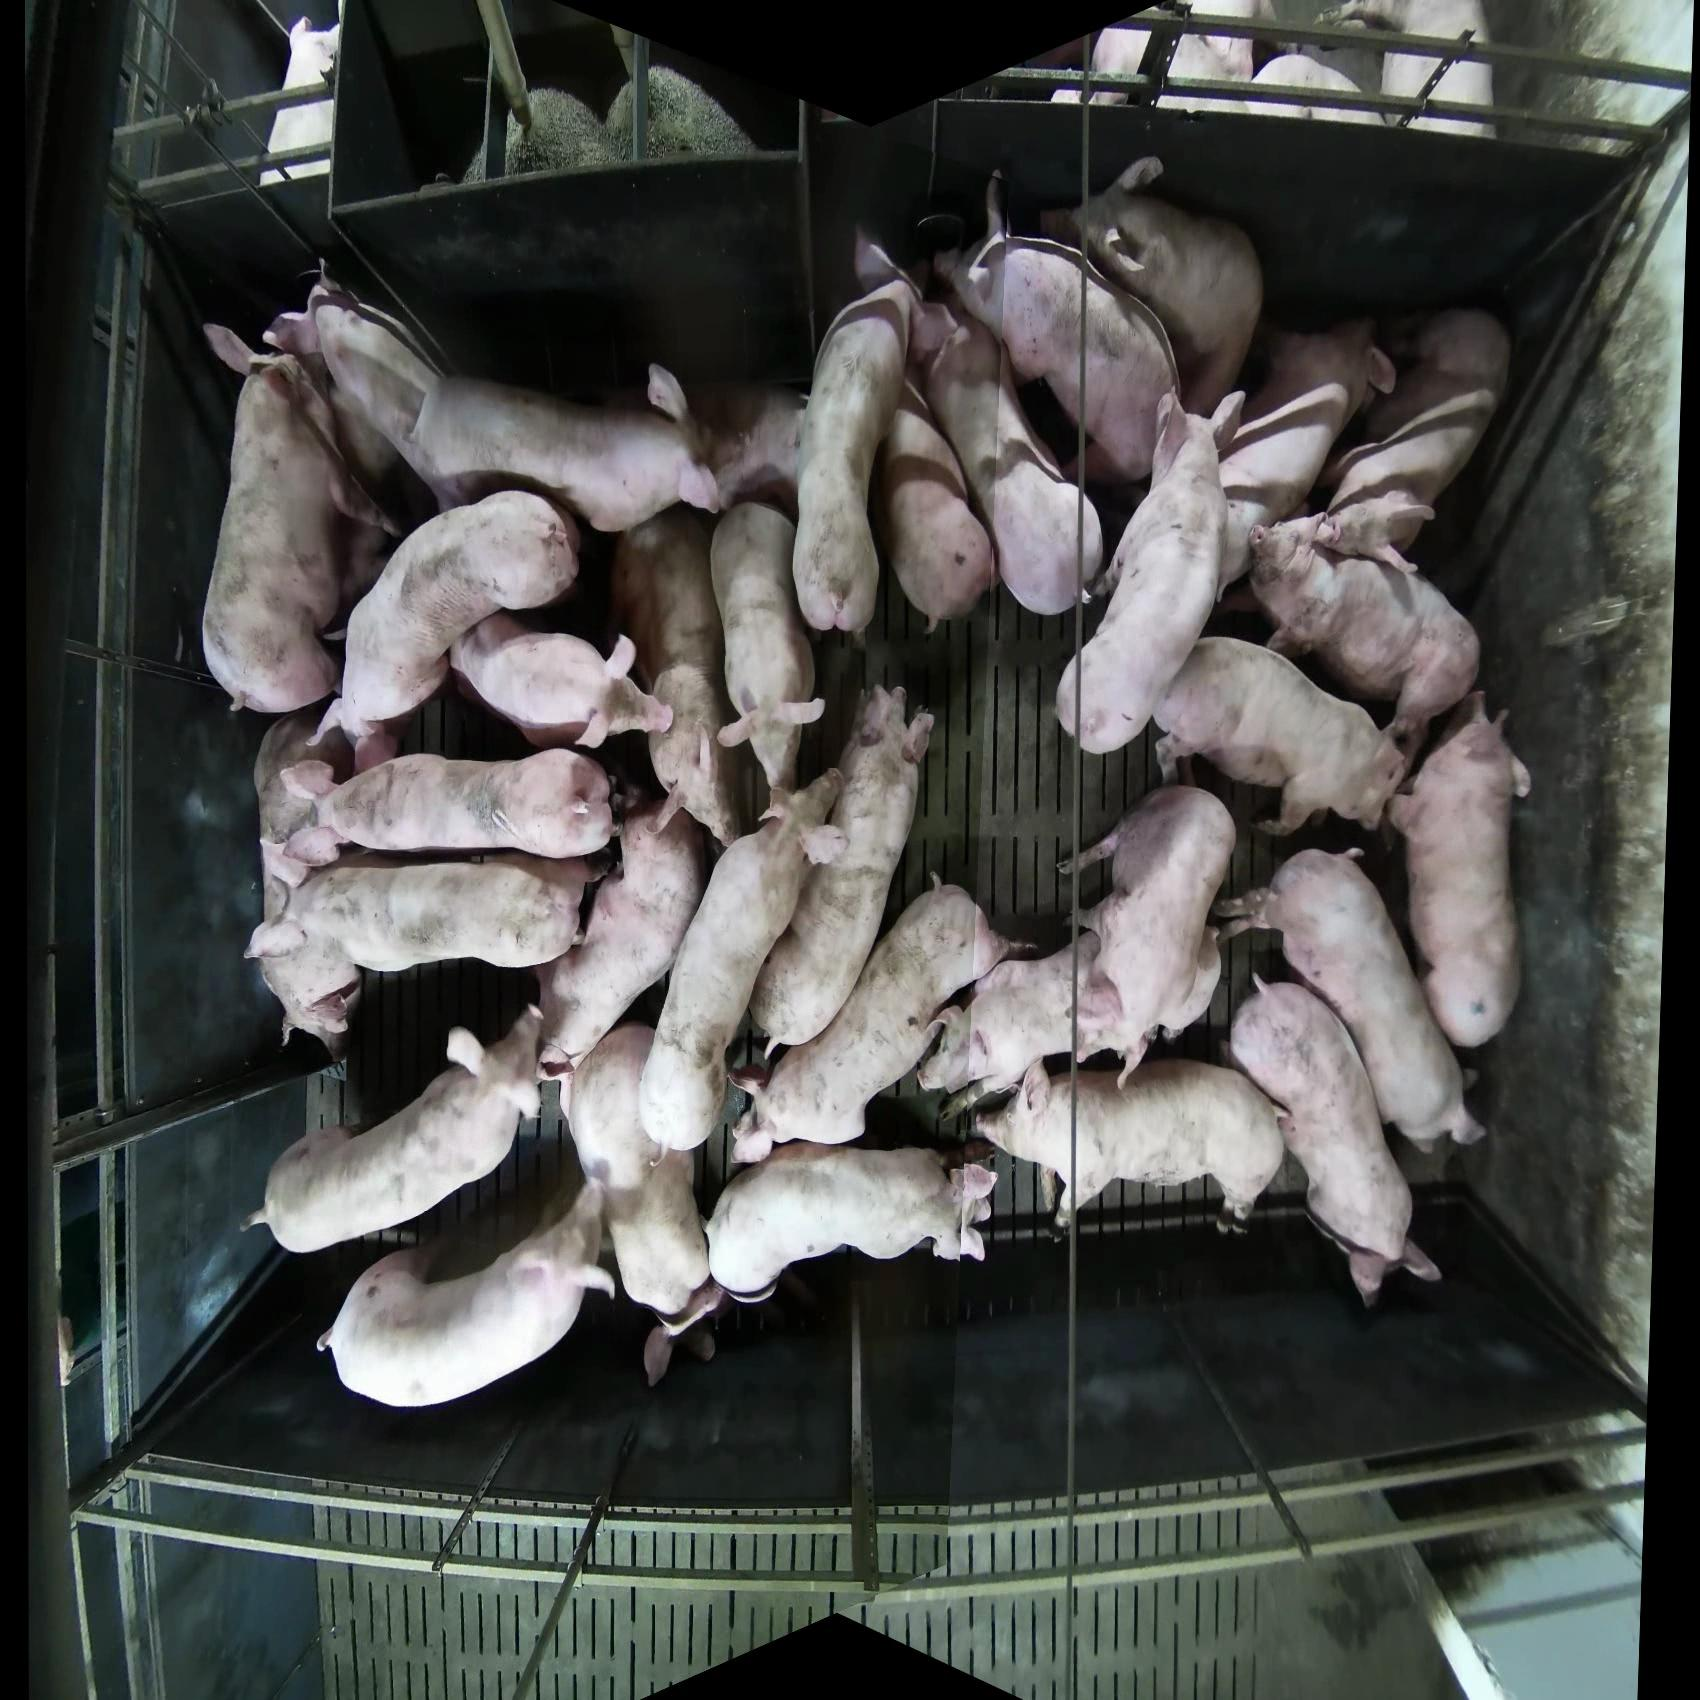pig: (894, 268, 1133, 634), (307, 314, 708, 525), (198, 328, 394, 715), (774, 226, 956, 641), (244, 1004, 545, 1255), (722, 880, 967, 1186), (1227, 968, 1443, 1308), (316, 1177, 616, 1410), (699, 1127, 1043, 1328), (929, 199, 1177, 467), (665, 725, 819, 1144), (771, 705, 947, 1059), (1326, 305, 1557, 553), (970, 1057, 1287, 1235), (304, 495, 582, 690), (1386, 690, 1533, 1049), (1174, 629, 1417, 844), (1073, 777, 1238, 1073), (276, 753, 646, 862), (254, 866, 592, 982), (574, 1041, 708, 1333), (1242, 565, 1499, 716), (708, 476, 831, 785), (1084, 184, 1281, 375), (624, 495, 721, 833), (453, 613, 676, 758), (948, 894, 1093, 1094), (1235, 328, 1319, 501)
